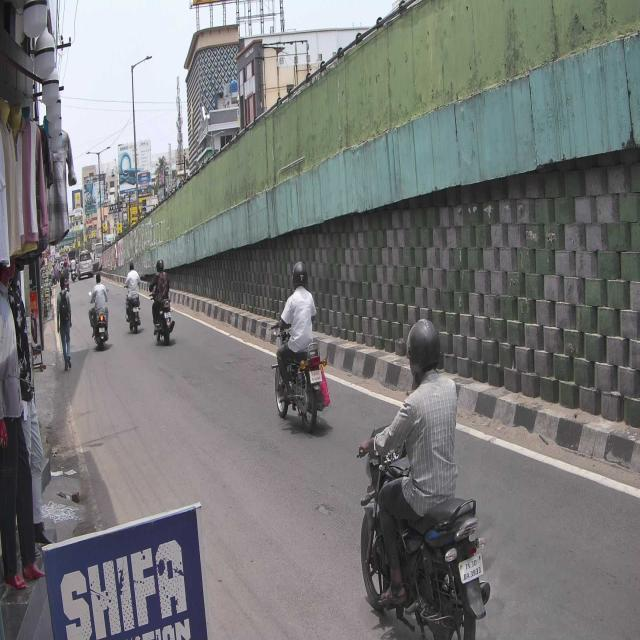single_rider: (356, 315, 492, 640), (268, 257, 330, 434)
